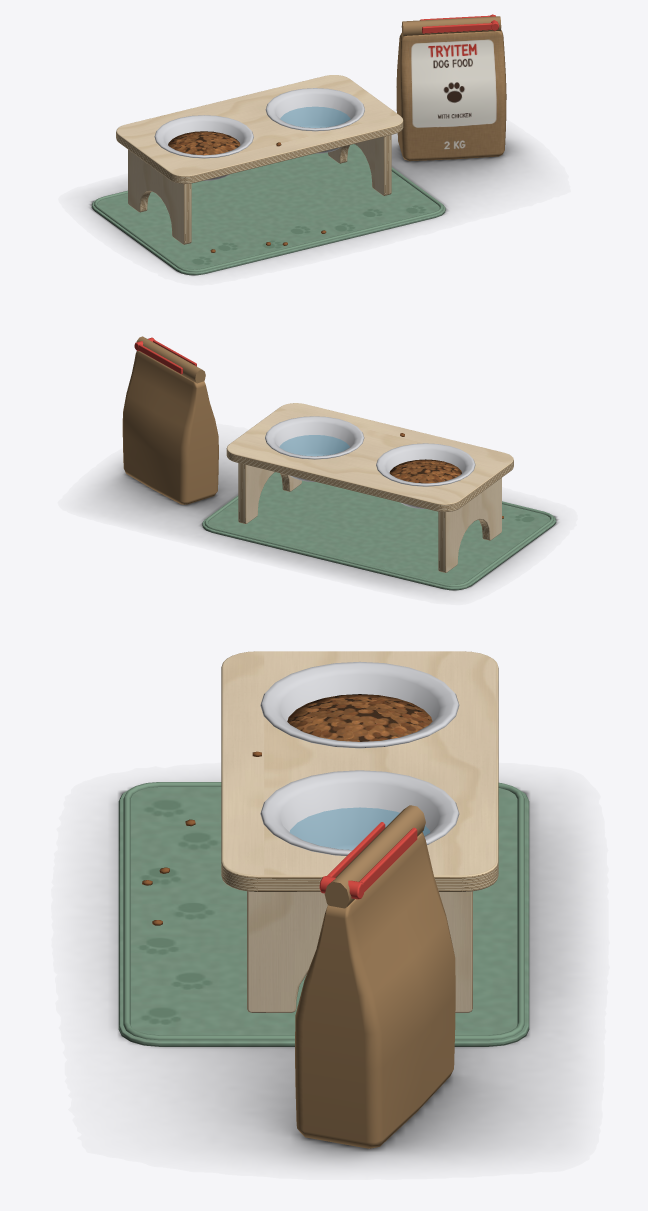
The model's file is pet_feeder.glb.
The picture shows the model from 3 angles, top to bottom: view 1: azimuth 30°, elevation 25°; view 2: azimuth 150°, elevation 25°; view 3: azimuth 270°, elevation 25°; orthographic projection. The views are drawn at different scales.
Parts seen in each view (by area): view 1: pet_feeder_LOD0, pet_feeder_Shadow; view 2: pet_feeder_LOD0, pet_feeder_Shadow; view 3: pet_feeder_LOD0, pet_feeder_Shadow.
Boxes of the visible parts, <box> form: pet_feeder_LOD0: <box>91,14,506,275</box>; pet_feeder_Shadow: <box>88,134,526,275</box>; pet_feeder_LOD0: <box>122,336,556,590</box>; pet_feeder_Shadow: <box>96,453,558,591</box>; pet_feeder_LOD0: <box>118,651,529,1148</box>; pet_feeder_Shadow: <box>105,783,576,1164</box>.
Size of what is drawn, in the model's own units: 1.05 by 0.2832 by 0.6.
Materials: 5 (4 with a texture image).
